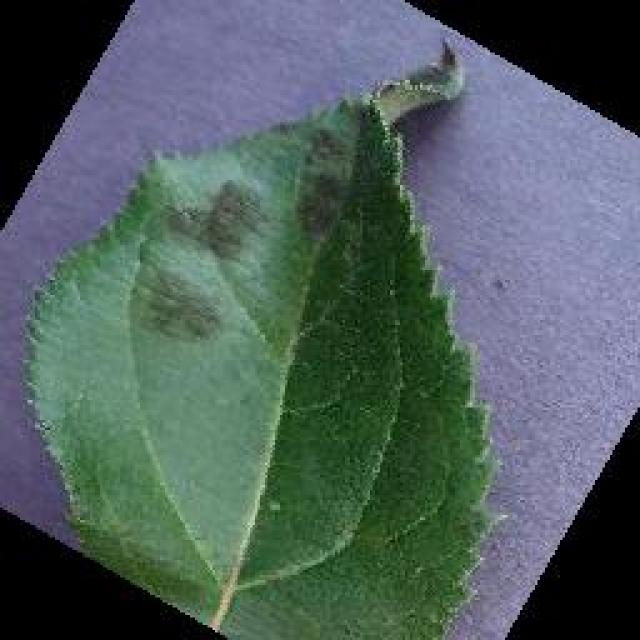apple scab disease: (18, 35, 502, 637)
